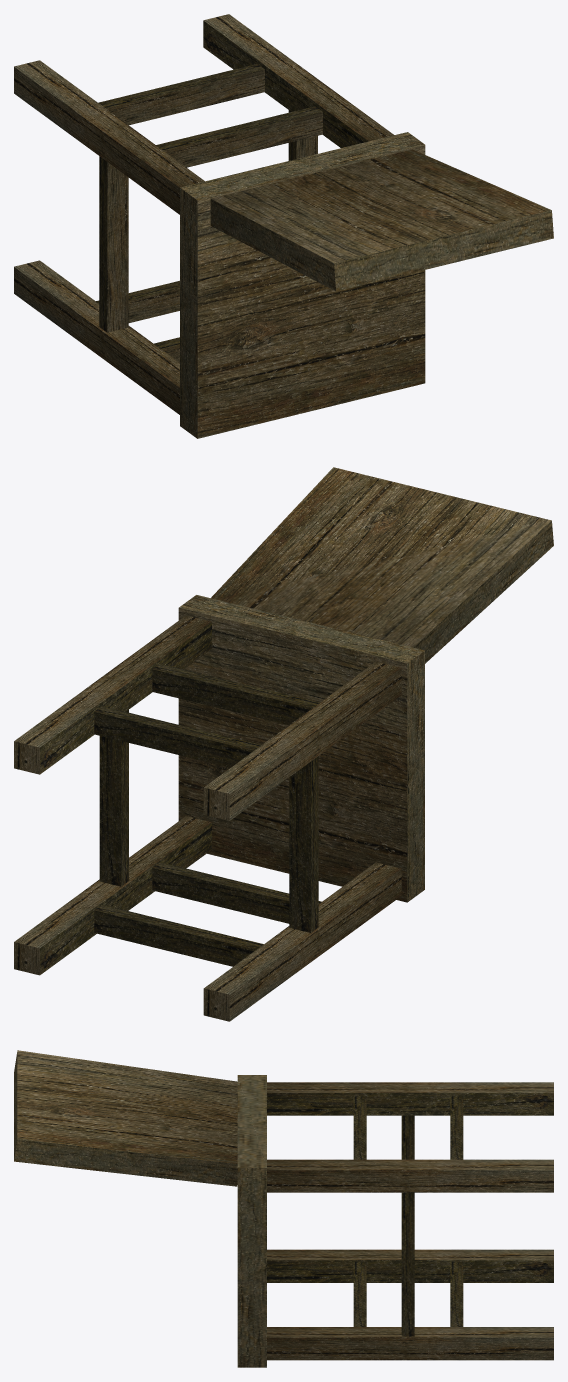
The model's file is mm9_deco_chairdesk03p270.glb.
The picture shows the model from 3 angles, top to bottom: view 1: azimuth 30°, elevation 25°; view 2: azimuth 150°, elevation 25°; view 3: azimuth 270°, elevation 25°; orthographic projection. The views are drawn at different scales.
Parts seen in each view (by area): view 1: Chairdesk03p270; view 2: Chairdesk03p270; view 3: Chairdesk03p270.
Part boxes in pixels (x1,y1,x2,y2): Chairdesk03p270: (14, 14, 553, 438); Chairdesk03p270: (14, 467, 553, 1021); Chairdesk03p270: (14, 1050, 553, 1367).
Bounding box in the file's own units: 0.6091 × 0.6912 × 1.49.
2 materials, 2 textured.
